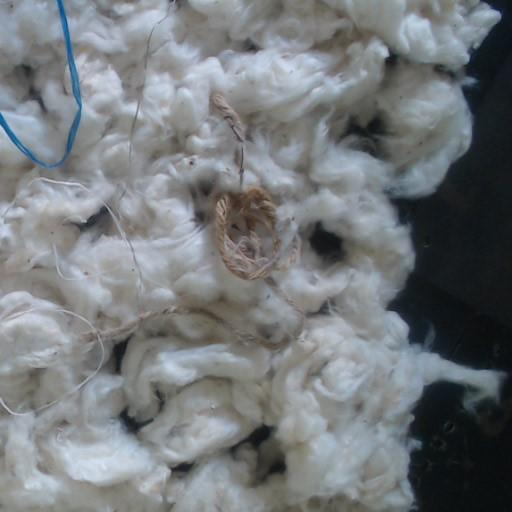jute: (76, 290, 306, 350), (214, 189, 299, 280), (212, 95, 245, 145)
thread: (0, 246, 159, 415), (0, 0, 82, 168), (130, 13, 167, 138)
